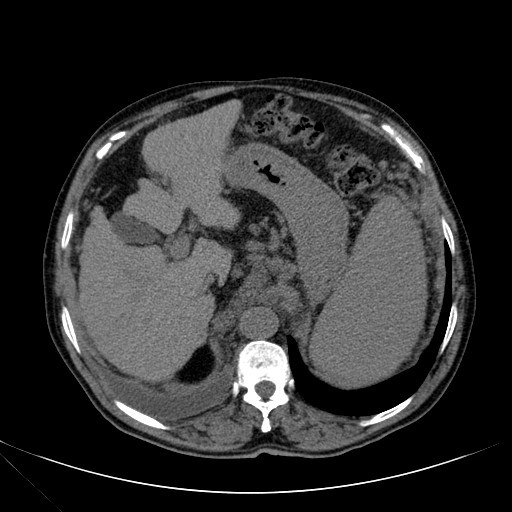vesicula: (105, 208, 164, 249)
